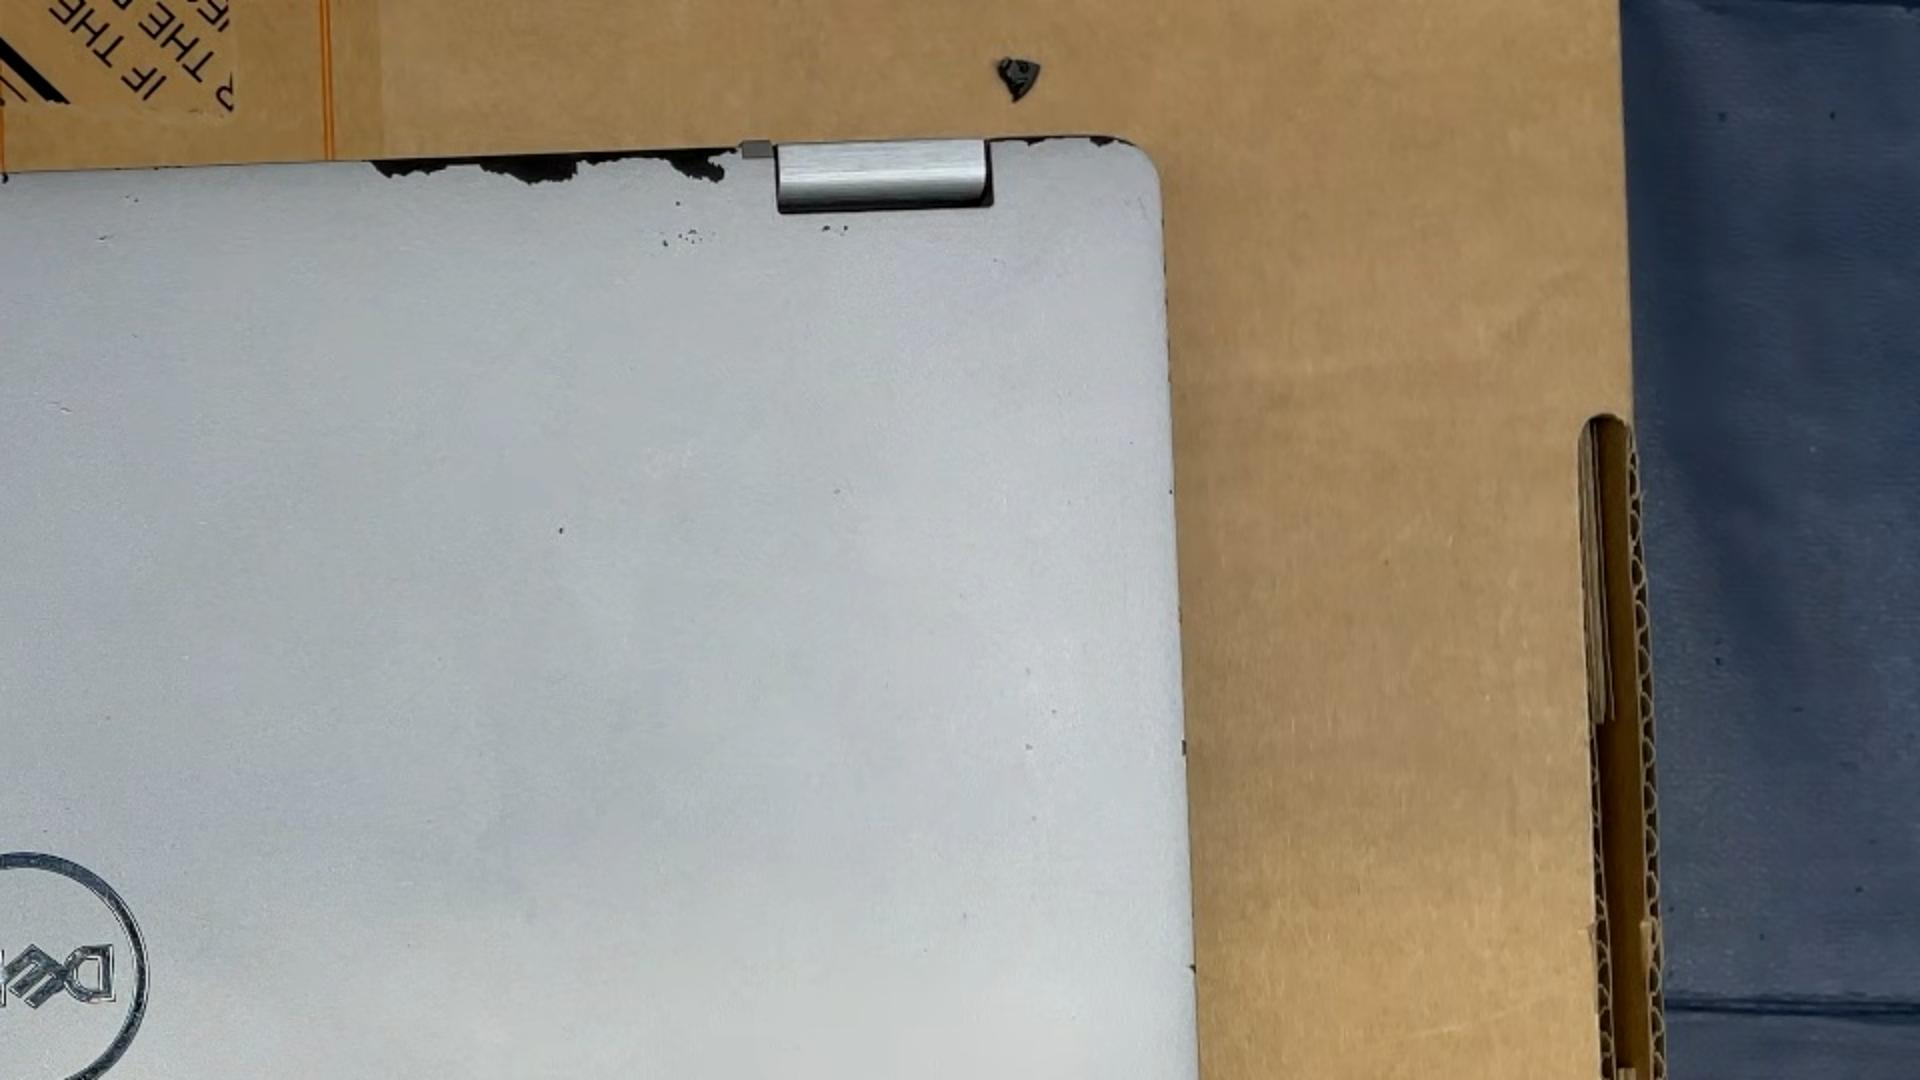chip: (363, 146, 738, 186), (990, 136, 1065, 148), (1089, 136, 1137, 148), (1182, 738, 1188, 757), (1187, 963, 1196, 976), (3, 173, 9, 185), (822, 224, 831, 231), (843, 224, 851, 231), (675, 200, 683, 207)
scratches: (675, 232, 705, 244), (124, 194, 141, 203), (98, 235, 115, 241), (687, 229, 700, 235), (663, 239, 670, 248), (559, 526, 563, 537)
